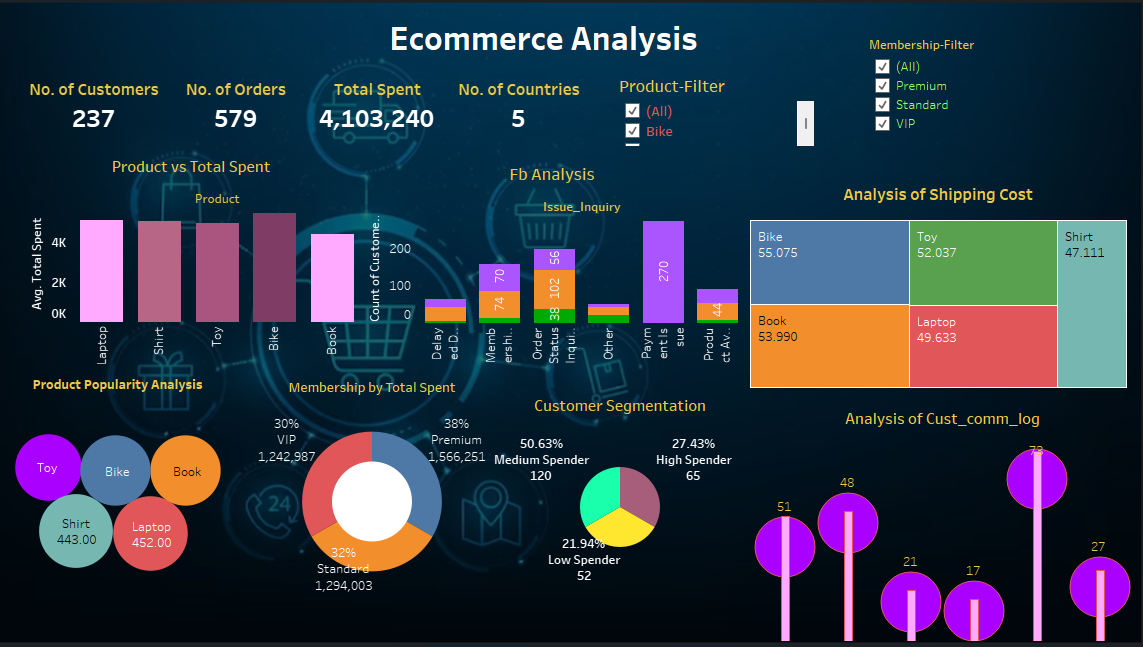

Layout of this report page (visuals, bound fields, positions):
{"tool":"tableau","page":{"name":"1. Ecommerce Analysis","canvas":[1000,800],"ordinal":0},"visuals":[{"type":"title","box":[8,8,984,50]},{"type":"text","box":[256,11,634,78]},{"type":"filter","title":"16","param":"[federated.04s9l6u0pzvabv1adqytz1sqi9et].[none:Membership:nk]","box":[10,28,243,162]},{"type":"text","box":[8,58,15.2,64]},{"type":"text","box":[23.2,58,15.2,32]},{"type":"text","box":[38.5,58,30.5,53]},{"type":"text","box":[69,58,160,39]},{"type":"text","box":[229,58,111,29]},{"type":"text","box":[340,58,160,29]},{"type":"text","box":[500,58,492,29]},{"type":"worksheet","title":"KPI","mark":"Automatic","box":[263,92,624,99]},{"type":"worksheet","title":"issue_inquiry","mark":"Automatic","rows":["Customer Communication Log"],"cols":["Calculation_687643422437044227"],"box":[400,204,436,225]},{"type":"worksheet","title":"toy-total Spent","mark":"Automatic","rows":["TotalSpent"],"cols":["Product"],"box":[6,205,388,223]},{"type":"worksheet","title":"2.Customer Segmentation","mark":"Pie","box":[537,437,255,250]},{"type":"worksheet","title":"7-Product Popularity Analysis","mark":"Circle","box":[6,438,258,248]},{"type":"worksheet","title":"16","mark":"Pie","rows":["Calculation_404479596244877315","Calculation_404479596244877315"],"box":[271,438,257,249]}]}

Visuals, with their boxes on the page's 1000x800 design canvas (x1, y1, x2, y2). These are canvas units, not pixel positions in the 1144x647 screenshot, which may show the page scaled, cropped or inside an application window:
title: (x1=8, y1=8, x2=992, y2=58)
text: (x1=256, y1=11, x2=890, y2=89)
"16" filter: (x1=10, y1=28, x2=253, y2=190)
text: (x1=8, y1=58, x2=23, y2=122)
text: (x1=23, y1=58, x2=38, y2=90)
text: (x1=38, y1=58, x2=69, y2=111)
text: (x1=69, y1=58, x2=229, y2=97)
text: (x1=229, y1=58, x2=340, y2=87)
text: (x1=340, y1=58, x2=500, y2=87)
text: (x1=500, y1=58, x2=992, y2=87)
"KPI" worksheet: (x1=263, y1=92, x2=887, y2=191)
"issue_inquiry" worksheet: (x1=400, y1=204, x2=836, y2=429)
"toy-total Spent" worksheet: (x1=6, y1=205, x2=394, y2=428)
"2.Customer Segmentation" worksheet (Pie marks): (x1=537, y1=437, x2=792, y2=687)
"7-Product Popularity Analysis" worksheet (Circle marks): (x1=6, y1=438, x2=264, y2=686)
"16" worksheet (Pie marks): (x1=271, y1=438, x2=528, y2=687)
